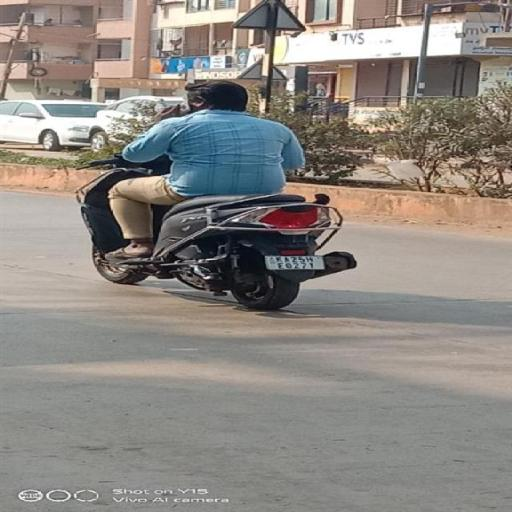numberplate: (266, 254, 326, 270)
using mobile: (166, 92, 195, 117)
